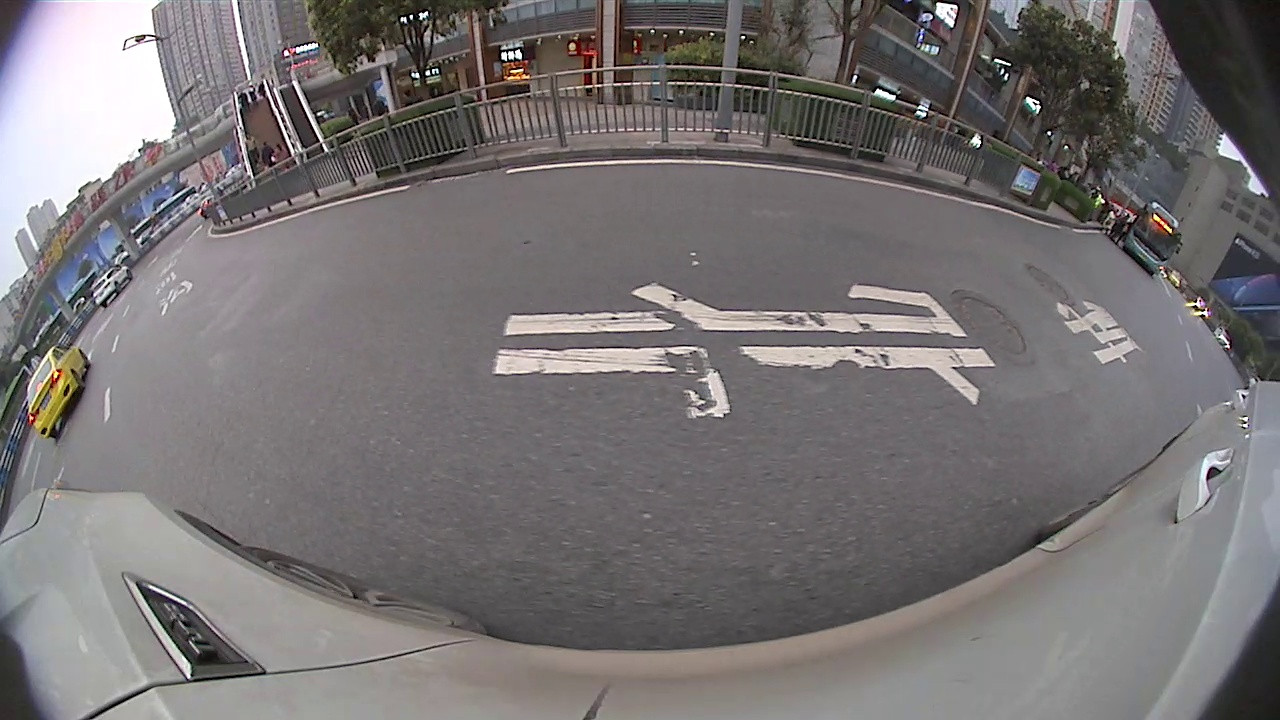bus: (1123, 203, 1181, 275)
car: (25, 346, 92, 439), (92, 262, 134, 310)
